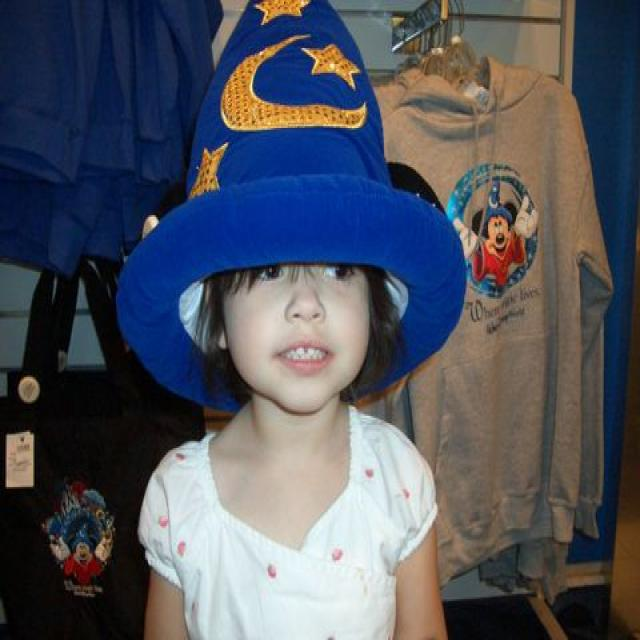hat: (119, 0, 468, 414)
